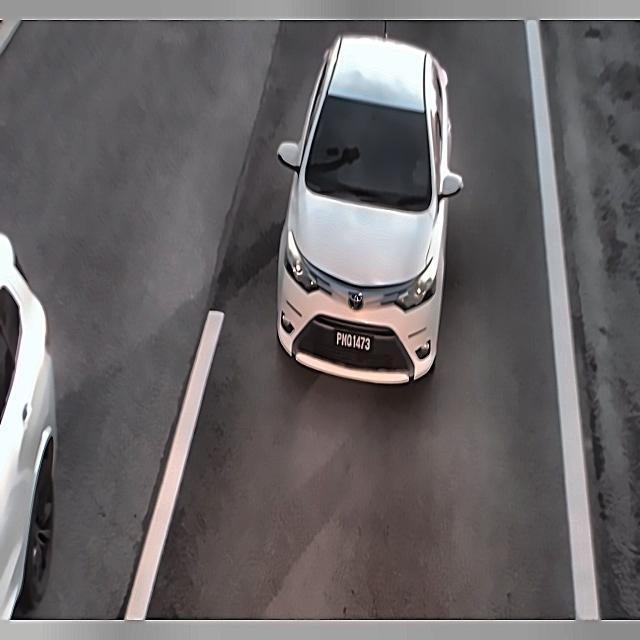car: (330, 318, 379, 369)
